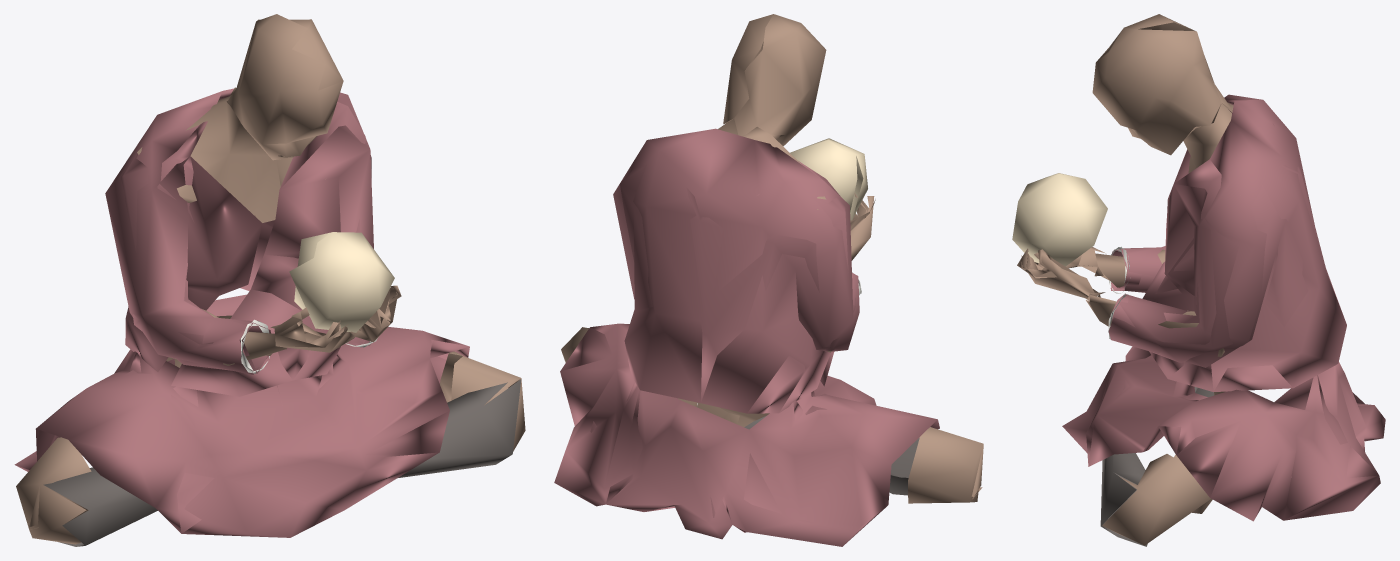
Rendered from figure-distant.glb.
The picture shows the model from 3 angles, left to right: view 1: azimuth 30°, elevation 25°; view 2: azimuth 150°, elevation 25°; view 3: azimuth 270°, elevation 25°; orthographic projection. The views are drawn at different scales.
Visible parts, largest first — view 1: figure; view 2: figure; view 3: figure.
Boxes of the visible parts, <box> form: figure: <box>14,14,525,546</box>; figure: <box>554,14,983,546</box>; figure: <box>1012,14,1385,546</box>.
Bounding box in the file's own units: 0.8771 × 0.836 × 0.6482.
